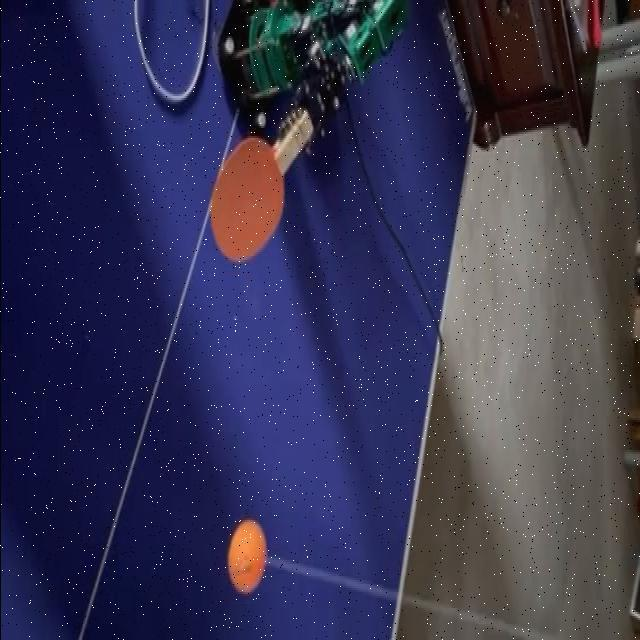ping-pong-ball: (228, 520, 266, 594)
